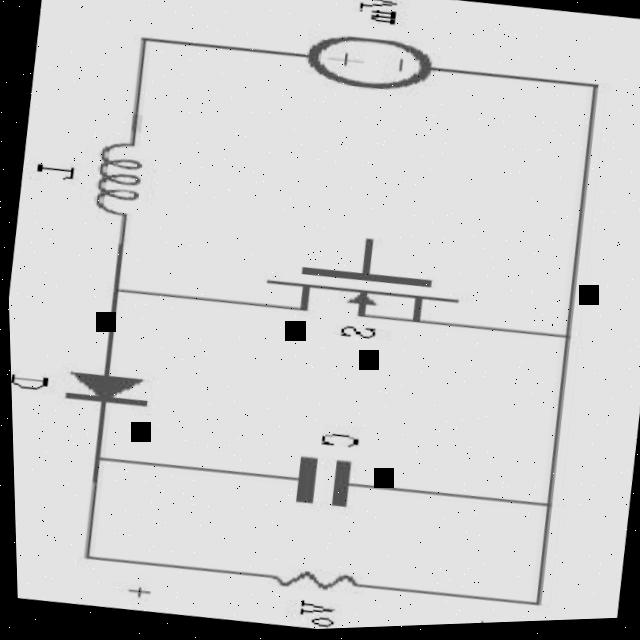capacitor: (260, 435, 380, 528)
diode: (45, 343, 178, 434)
inductor: (59, 116, 179, 236)
mosfet: (261, 209, 466, 361)
resistor: (240, 552, 382, 610)
source: (288, 17, 462, 115)
